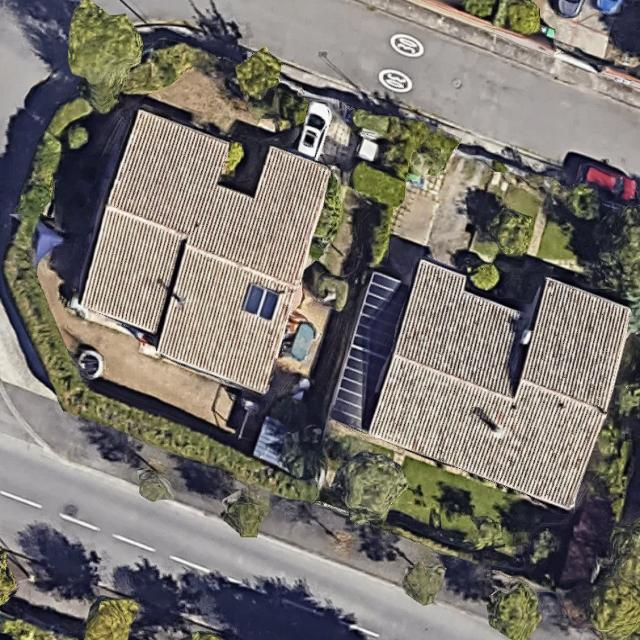maison: (65, 106, 335, 396), (358, 237, 640, 512)
